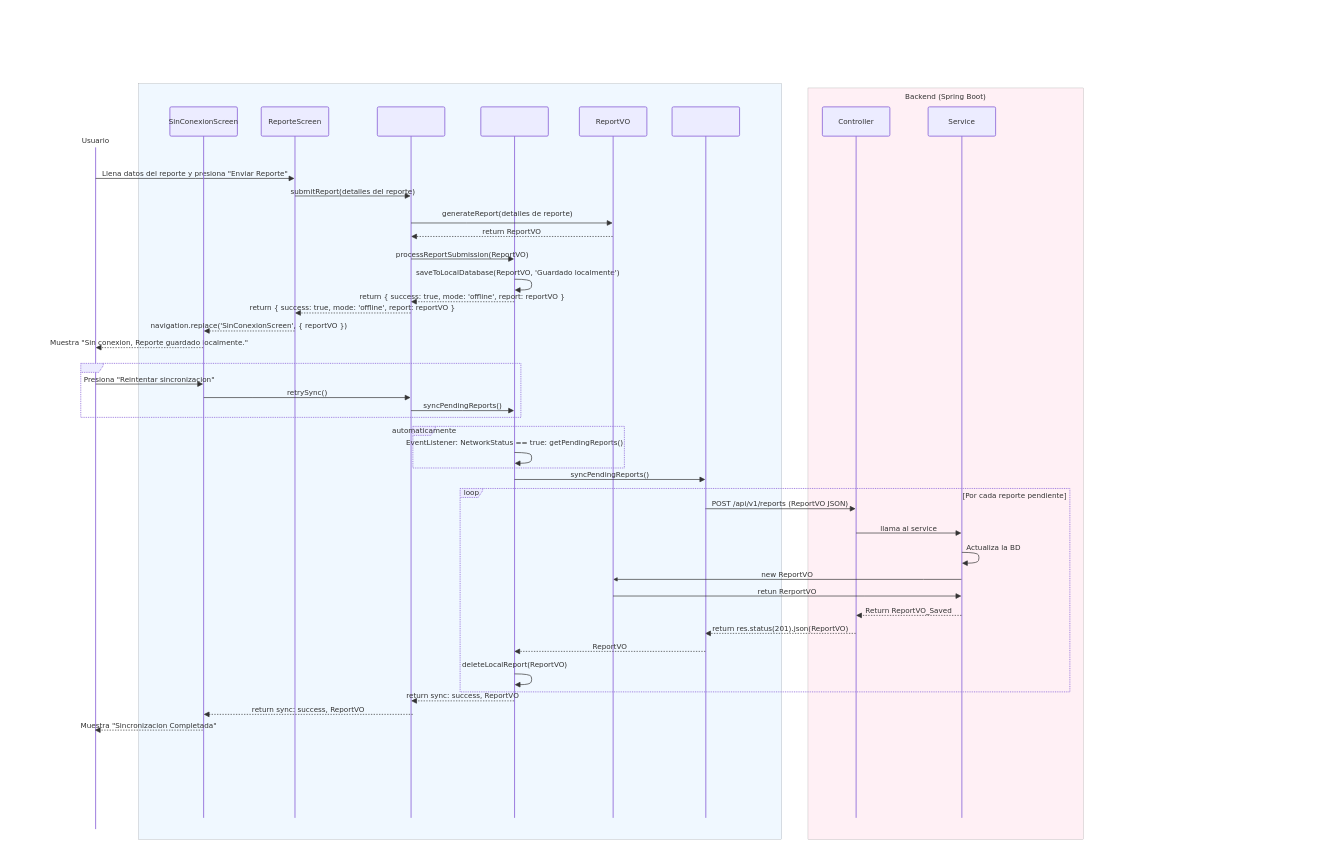
Some shapes in this 1325 by 851 pixel diagram are drawn without their labels. The shapes that lost their labels are listed below. From the top down, each one's box as (x1, y1, x2, y2) in pixels, then its label:
(80, 363, 521, 418): manualmente
(377, 106, 445, 818): useReport
(138, 83, 782, 839): Frontend (React Native)
(480, 106, 549, 818): ReportManager
(671, 106, 740, 818): API Client
